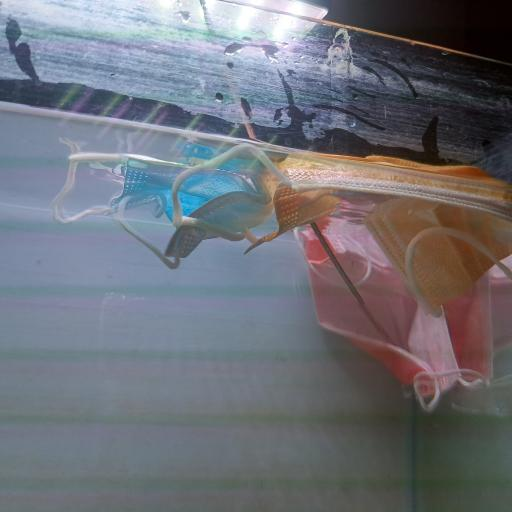mask: (174, 149, 512, 304), (294, 216, 512, 412), (64, 150, 269, 269)
